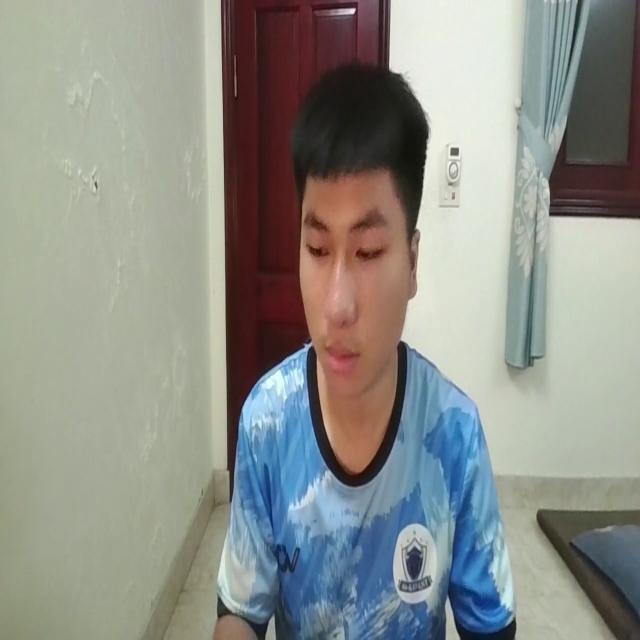student: (214, 53, 514, 640)
